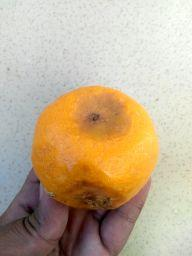Unripe: (28, 87, 161, 210)
